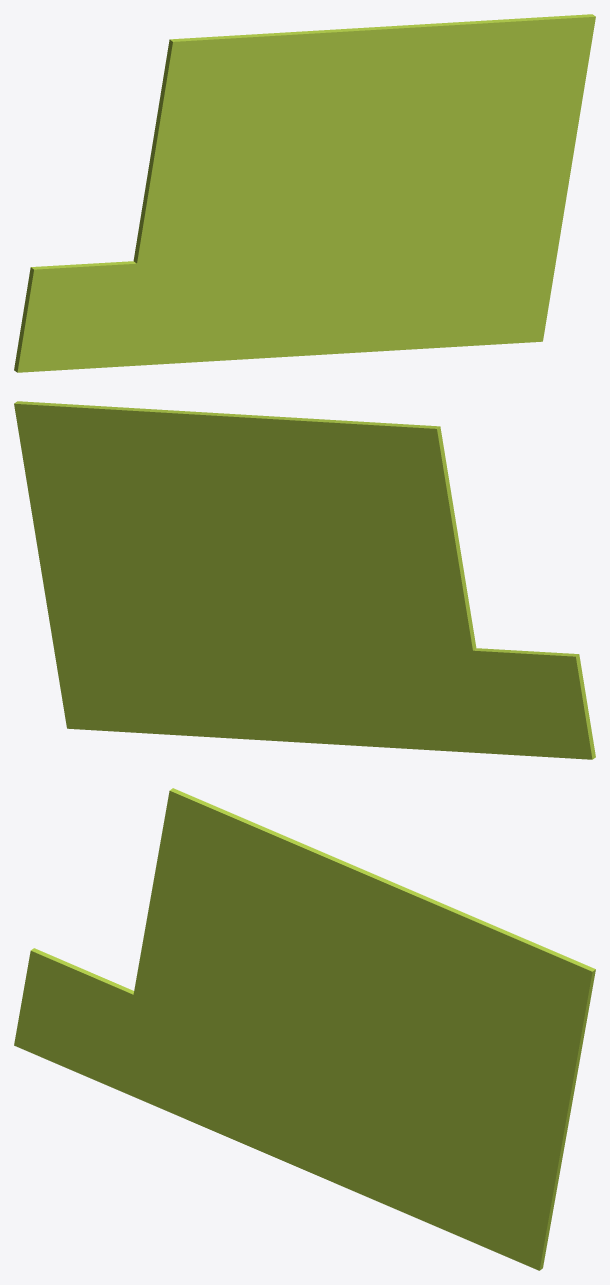
3 views of the same model, one above another, from view 1: azimuth 30°, elevation 25°; view 2: azimuth 150°, elevation 25°; view 3: azimuth 330°, elevation 25° (orthographic).
Parts seen in each view (by area): view 1: osm-way27917482-F0; view 2: osm-way27917482-F0; view 3: osm-way27917482-F0.
Boxes of the visible parts, x1=… form: osm-way27917482-F0: x1=14, y1=14, x2=595, y2=372; osm-way27917482-F0: x1=14, y1=401, x2=595, y2=759; osm-way27917482-F0: x1=14, y1=788, x2=595, y2=1270.
Size of the model in its own units: 14.41 by 9.28 by 0.15.
